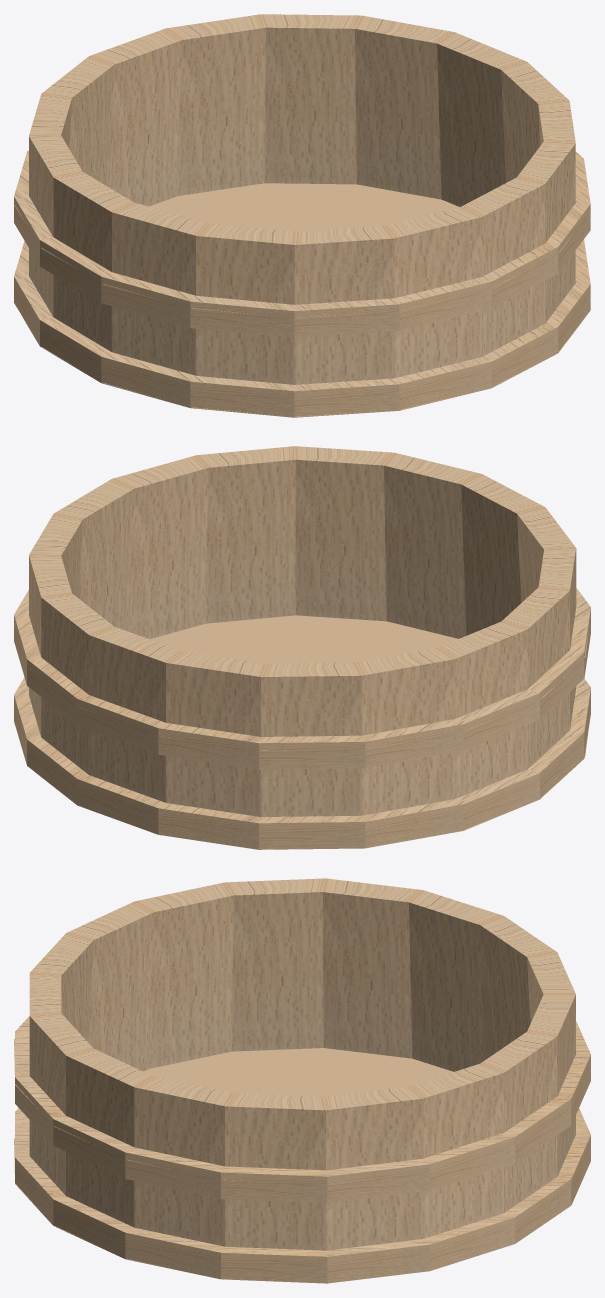
The model's file is hangirihalf.obj.
The picture shows the model from 3 angles, top to bottom: view 1: azimuth 30°, elevation 25°; view 2: azimuth 150°, elevation 25°; view 3: azimuth 270°, elevation 25°; orthographic projection.
Parts seen in each view (by area): view 1: Cylinder.006, Cylinder.005, Cylinder.003; view 2: Cylinder.006, Cylinder.005, Cylinder.003; view 3: Cylinder.006, Cylinder.005, Cylinder.003.
Boxes of the visible parts, x1,y1,x2,y2 form: Cylinder.006: (29,14,575,384); Cylinder.005: (14,150,590,337); Cylinder.003: (14,239,590,417); Cylinder.006: (29,446,576,816); Cylinder.005: (14,588,590,769); Cylinder.003: (14,677,590,849); Cylinder.006: (29,878,575,1250); Cylinder.005: (15,1016,590,1203); Cylinder.003: (15,1108,590,1283).
Bounding box in the file's own units: 0.9769 × 0.3108 × 0.9735.
Materials: 2 (2 with a texture image).
